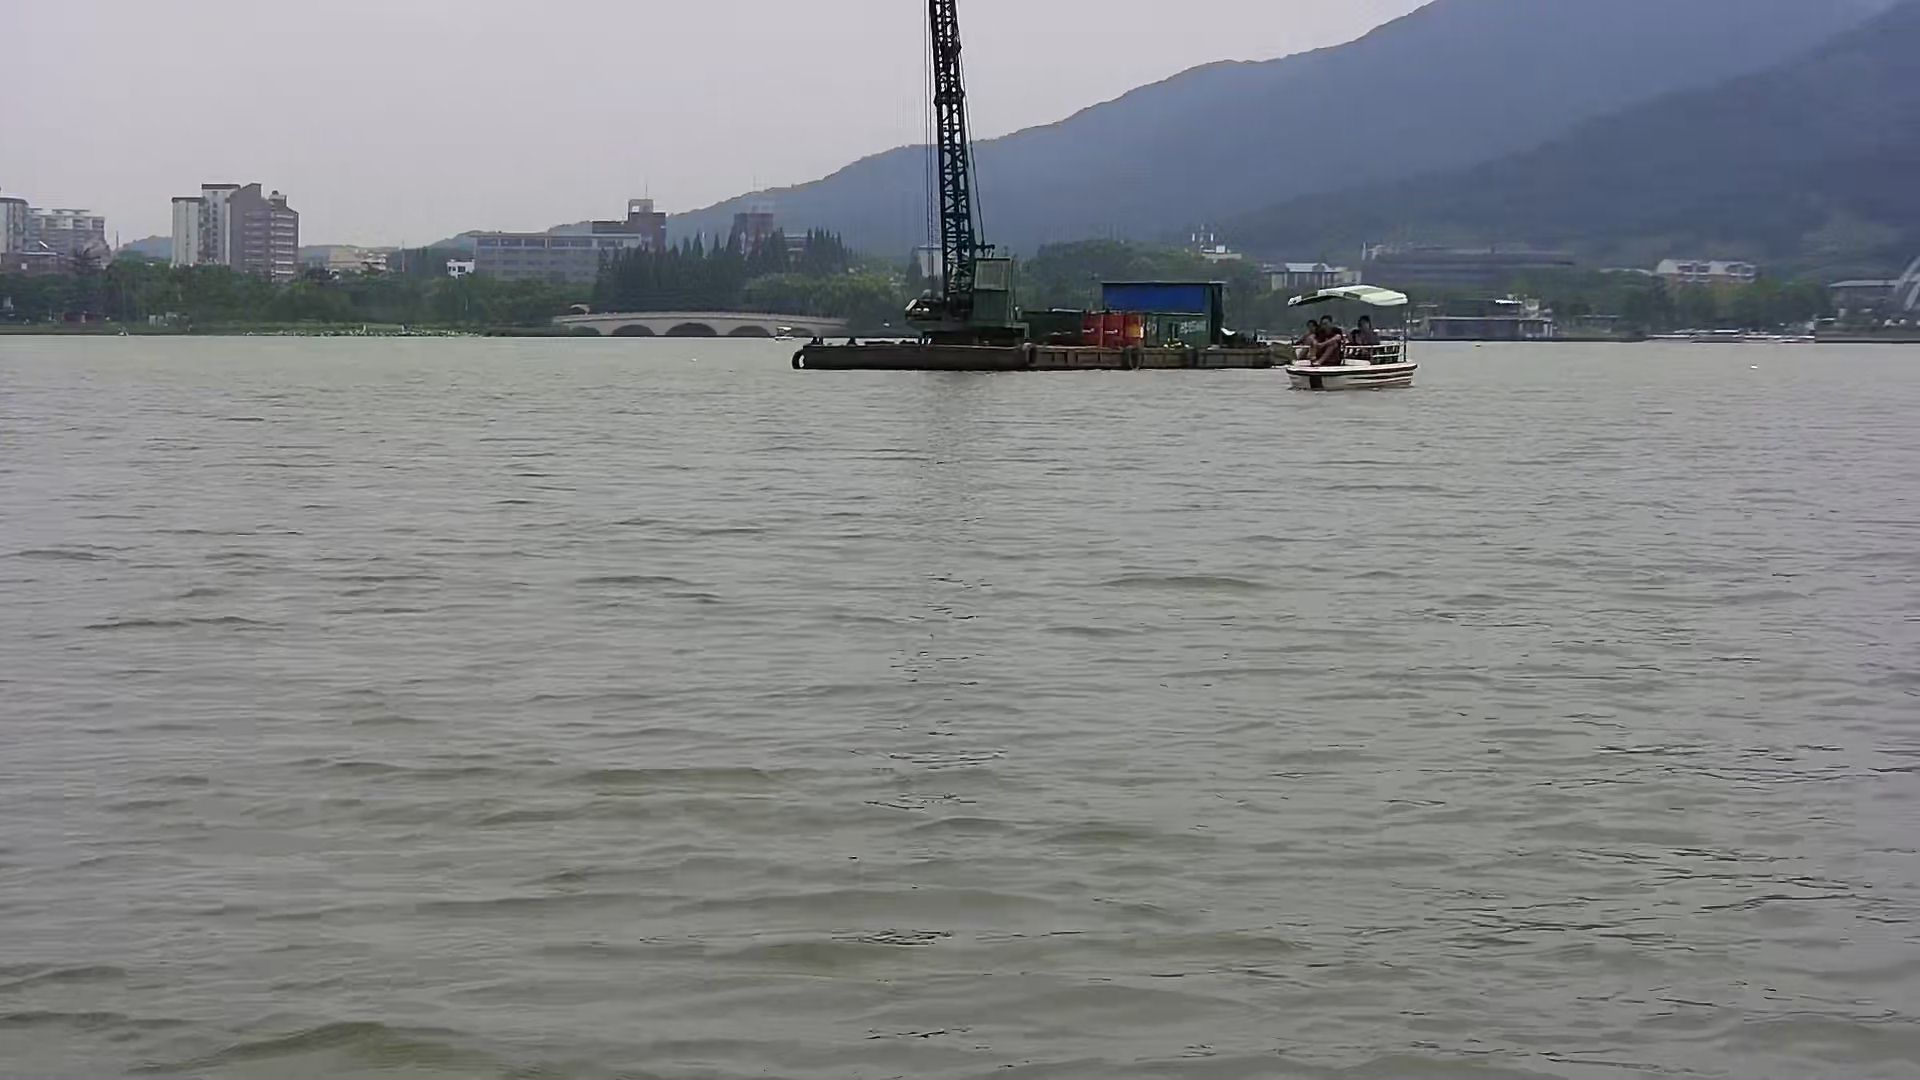boat: (1282, 273, 1418, 400)
bridge: (550, 301, 844, 345)
harbor: (796, 262, 1280, 378)
